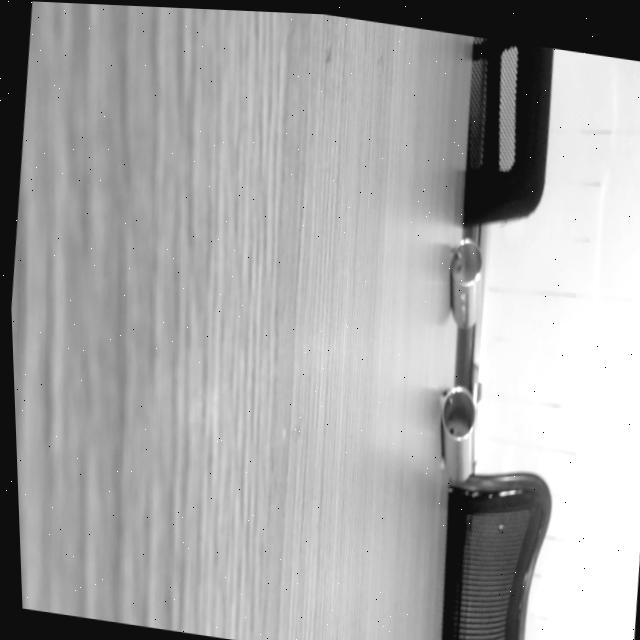Co_Lon: (440, 385, 476, 479)
Co_Nho: (446, 237, 483, 329)
